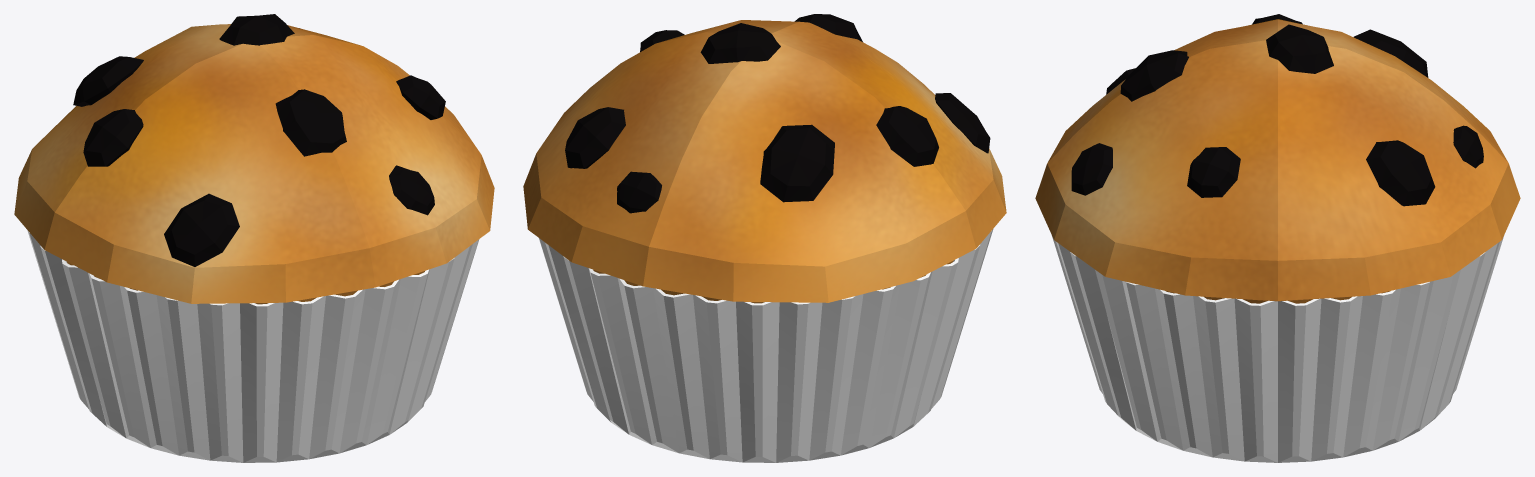
File: mofin.glb
The picture shows the model from 3 angles, left to right: view 1: azimuth 30°, elevation 25°; view 2: azimuth 150°, elevation 25°; view 3: azimuth 270°, elevation 25°; orthographic projection.
Parts seen in each view (by area): view 1: skp7253; view 2: skp7253; view 3: skp7253.
Boxes of the visible parts, bbox=[...] form: skp7253: bbox=[14, 14, 494, 462]; skp7253: bbox=[523, 14, 1006, 462]; skp7253: bbox=[1035, 14, 1520, 462].
Bounding box in the file's own units: 2.77 × 2.29 × 2.77.
Materials: 3 (1 with a texture image).
